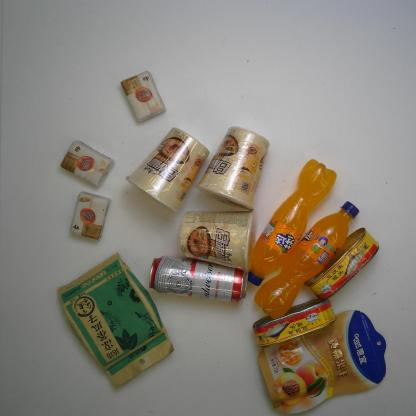Alcohol: (147, 255, 250, 303)
Canned Food: (306, 226, 380, 301), (251, 298, 338, 349)
Dried Food: (56, 250, 175, 389)
Dried Fruit: (254, 309, 387, 415)
Drink: (254, 200, 362, 321), (248, 158, 338, 286)
Instant Noodles: (124, 126, 211, 215), (194, 125, 271, 213), (179, 209, 259, 274)
Tissue: (59, 138, 116, 187), (119, 68, 167, 126), (69, 190, 112, 240)
